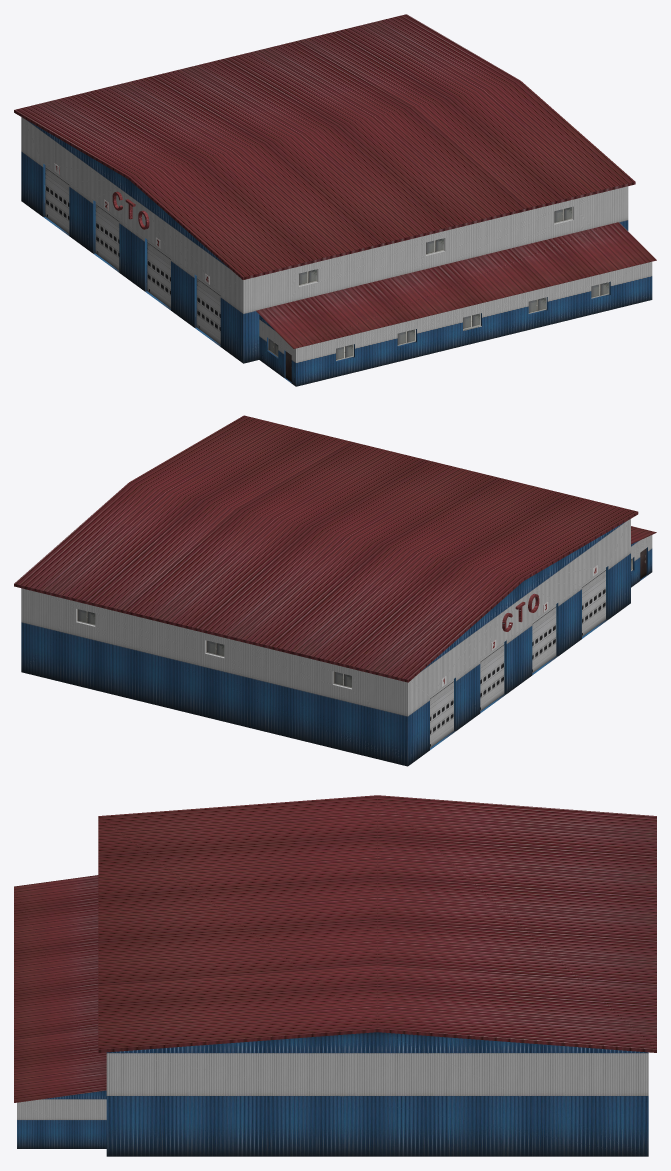
The model's file is r402_kr_yar_sto.FBX.
3 views of the same model, one above another, from view 1: azimuth 30°, elevation 25°; view 2: azimuth 150°, elevation 25°; view 3: azimuth 270°, elevation 25° (orthographic). The views are drawn at different scales.
Parts seen in each view (by area): view 1: r402_kr_yar_sto; view 2: r402_kr_yar_sto; view 3: r402_kr_yar_sto.
Boxes of the visible parts, x1=… form: r402_kr_yar_sto: x1=14, y1=14, x2=656, y2=386; r402_kr_yar_sto: x1=14, y1=415, x2=656, y2=766; r402_kr_yar_sto: x1=14, y1=795, x2=656, y2=1156.
Bounding box in the file's own units: 3060 × 3558 × 795.
